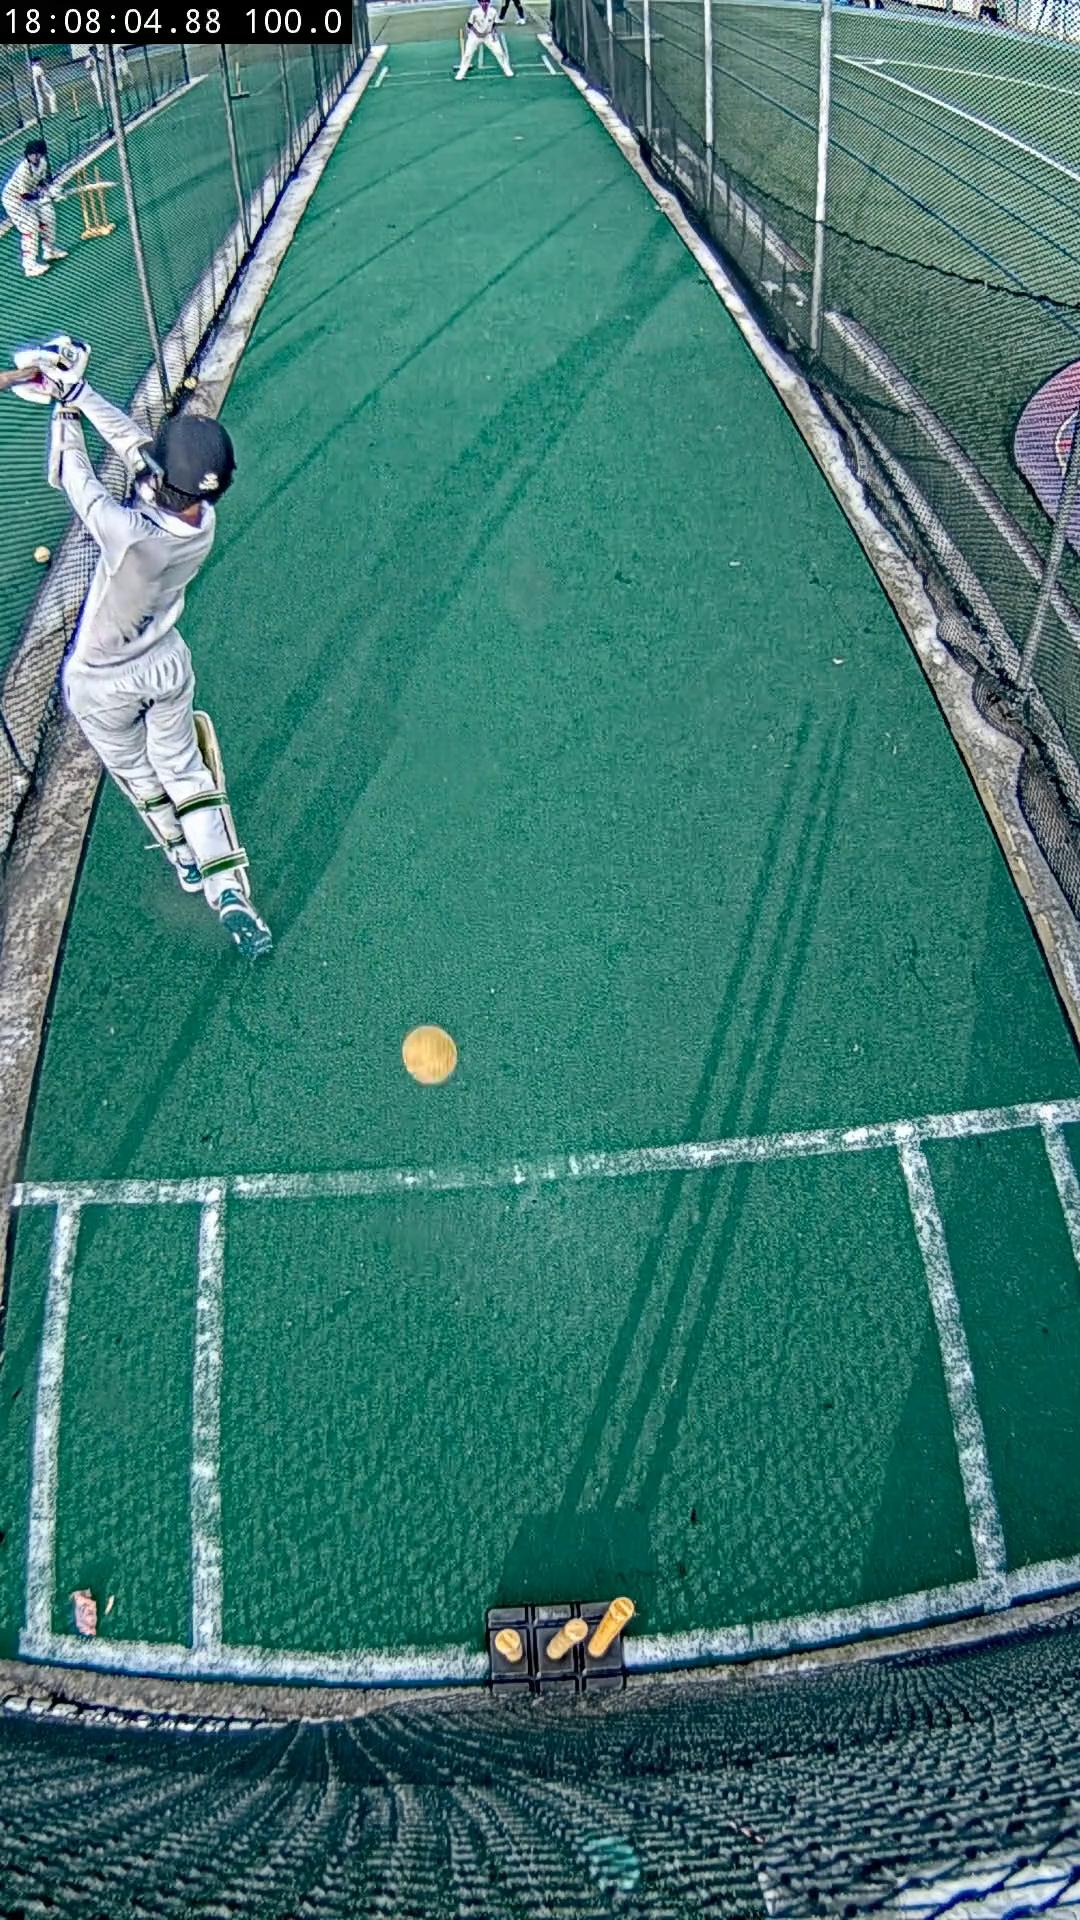ball: (401, 1023, 458, 1084)
bat: (0, 368, 41, 388)
gloves: (12, 334, 90, 401)
helmet: (142, 417, 236, 510)
pads: (195, 708, 248, 890)
stumps: (488, 1597, 634, 1695)
